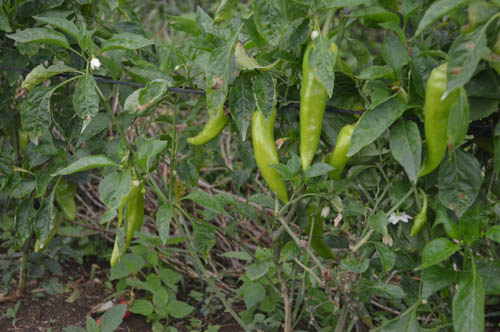ChiliPepper: (296, 32, 340, 182), (413, 55, 465, 179), (248, 100, 294, 206), (184, 70, 230, 151), (110, 181, 148, 275), (301, 192, 343, 261), (328, 123, 357, 189), (54, 183, 84, 226)
